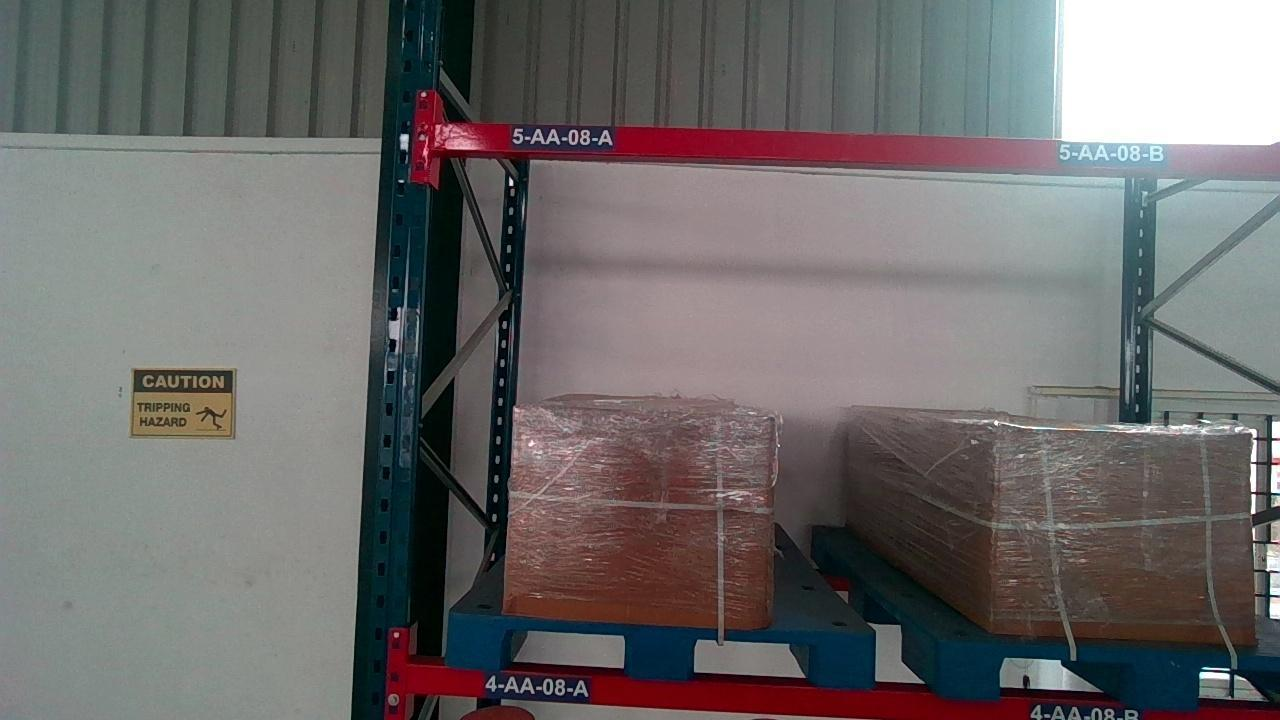h_rack: (422, 126, 1280, 180), (414, 672, 1280, 720)
small_pallet: (437, 620, 880, 678), (953, 647, 1279, 707)
